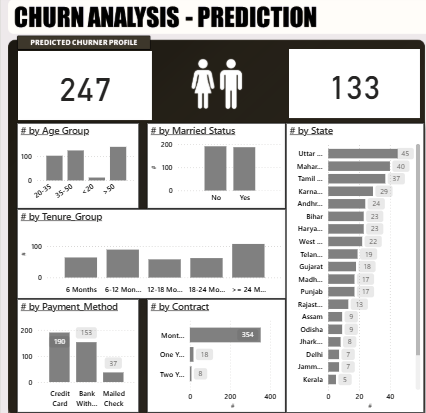

Layout of this report page (visuals, bound fields, positions):
{"tool":"powerbi","page":{"name":"Churn Prediction","canvas":[1280,720],"ordinal":2},"visuals":[{"type":"tableEx","fields":{"Values":["Prod_churn.Customer_ID","Sum(Prod_churn.Total_Revenue)","Sum(Prod_churn.Total_Refunds)","Sum(Prod_churn.Number_of_Referrals)"]},"box":[728.6,152.6,551.5,550.1],"z":0},{"type":"card","fields":{"Values":["tbl_Measure.Title Predicted chruner"]},"box":[761.8,99.4,443.5,34.6],"z":1000},{"type":"card","fields":{"Values":["tbl_Measure.Count Preducted Chrun"]},"box":[28.6,94.1,225.1,115.9],"z":2000},{"type":"card","fields":{"Values":["tbl_Measure.Count Preducted Chrun"]},"box":[483.8,90.7,220.1,115.9],"z":3000},{"type":"clusteredColumnChart","fields":{"Y":["CountNonNull(Predictions.Customer_ID)"],"Category":["mapping_Table Age_Grouping.Age Group "]},"box":[26.9,215,204.9,144.5],"z":3001},{"type":"clusteredColumnChart","fields":{"Category":["Predictions.Married"],"Y":["CountNonNull(Predictions.Customer_ID)"]},"box":[245.2,215,233.5,144.5],"z":3002},{"type":"clusteredColumnChart","fields":{"Y":["CountNonNull(Predictions.Customer_ID)"],"Category":["Tenure_Grouping.Tenure_Group"]},"box":[26.9,359.5,451.9,151.2],"z":3003},{"type":"clusteredColumnChart","fields":{"Y":["CountNonNull(Predictions.Customer_ID)"],"Category":["Predictions.Payment_Method"]},"box":[26.9,510.7,204.9,191.5],"z":3004},{"type":"barChart","fields":{"Category":["Predictions.Contract"],"Y":["CountNonNull(Predictions.Customer_ID)"]},"box":[245.2,510.7,233.5,191.5],"z":3005},{"type":"barChart","fields":{"Category":["Predictions.State"],"Y":["CountNonNull(Predictions.Customer_ID)"]},"box":[478.7,215,231.8,487.1],"z":3006},{"type":"image","box":[255.3,90.7,213.3,115.9],"z":3007},{"type":"shape","box":[1043.1,11.8,193.2,55.4],"z":3008}]}

Visuals, with their boxes on the page's 1280x720 design canvas (x1, y1, x2, y2). These are canvas units, not pixel positions in the 426x413 screenshot, which may show the page scaled, cropped or inside an application window:
tableEx - Prod_churn.Customer_ID x Sum(Prod_churn.Total_Revenue): select_region(729, 153, 1280, 703)
card - tbl_Measure.Title Predicted chruner: select_region(762, 99, 1205, 134)
card - tbl_Measure.Count Preducted Chrun: select_region(29, 94, 254, 210)
card - tbl_Measure.Count Preducted Chrun: select_region(484, 91, 704, 207)
clusteredColumnChart - CountNonNull(Predictions.Customer_ID) x mapping_Table Age_Grouping.Age Group : select_region(27, 215, 232, 360)
clusteredColumnChart - Predictions.Married x CountNonNull(Predictions.Customer_ID): select_region(245, 215, 479, 360)
clusteredColumnChart - CountNonNull(Predictions.Customer_ID) x Tenure_Grouping.Tenure_Group: select_region(27, 360, 479, 511)
clusteredColumnChart - CountNonNull(Predictions.Customer_ID) x Predictions.Payment_Method: select_region(27, 511, 232, 702)
barChart - Predictions.Contract x CountNonNull(Predictions.Customer_ID): select_region(245, 511, 479, 702)
barChart - Predictions.State x CountNonNull(Predictions.Customer_ID): select_region(479, 215, 710, 702)
image: select_region(255, 91, 469, 207)
shape: select_region(1043, 12, 1236, 67)
